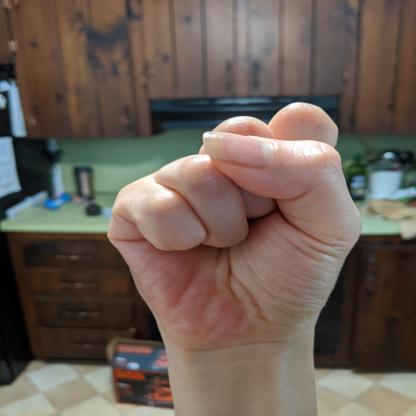S: (102, 98, 366, 362)
